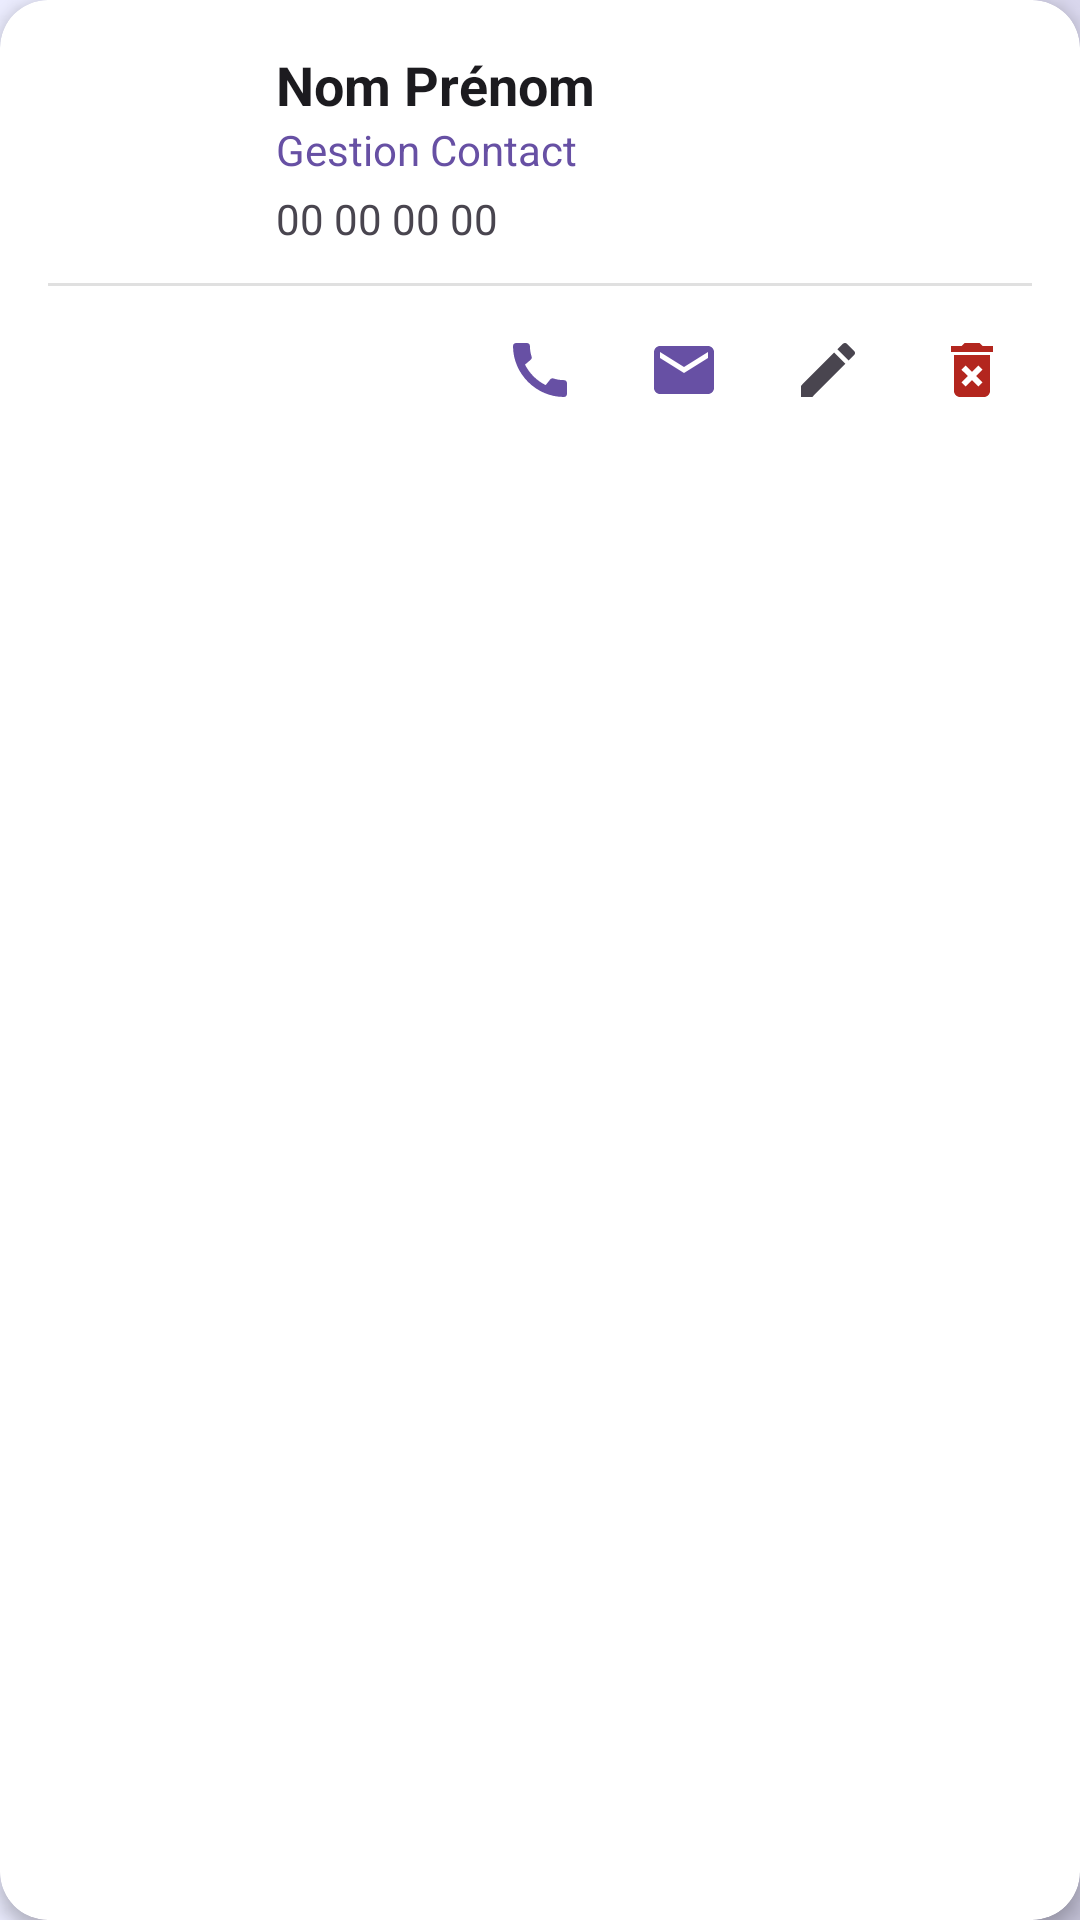

Screen size 1080×1920. Icon name, then its center in pixels as point (x, y):
Call: point (540, 370)
Delete: point (972, 370)
Edit: point (828, 370)
Message: point (684, 370)
